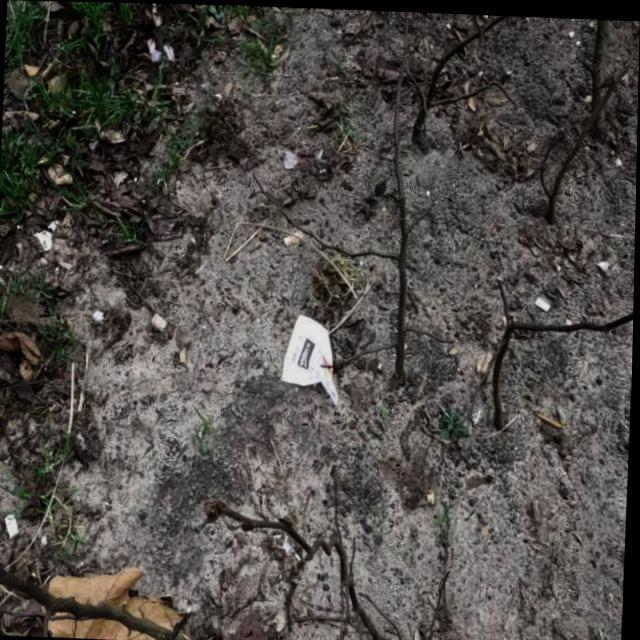Paper: (280, 311, 352, 408)
